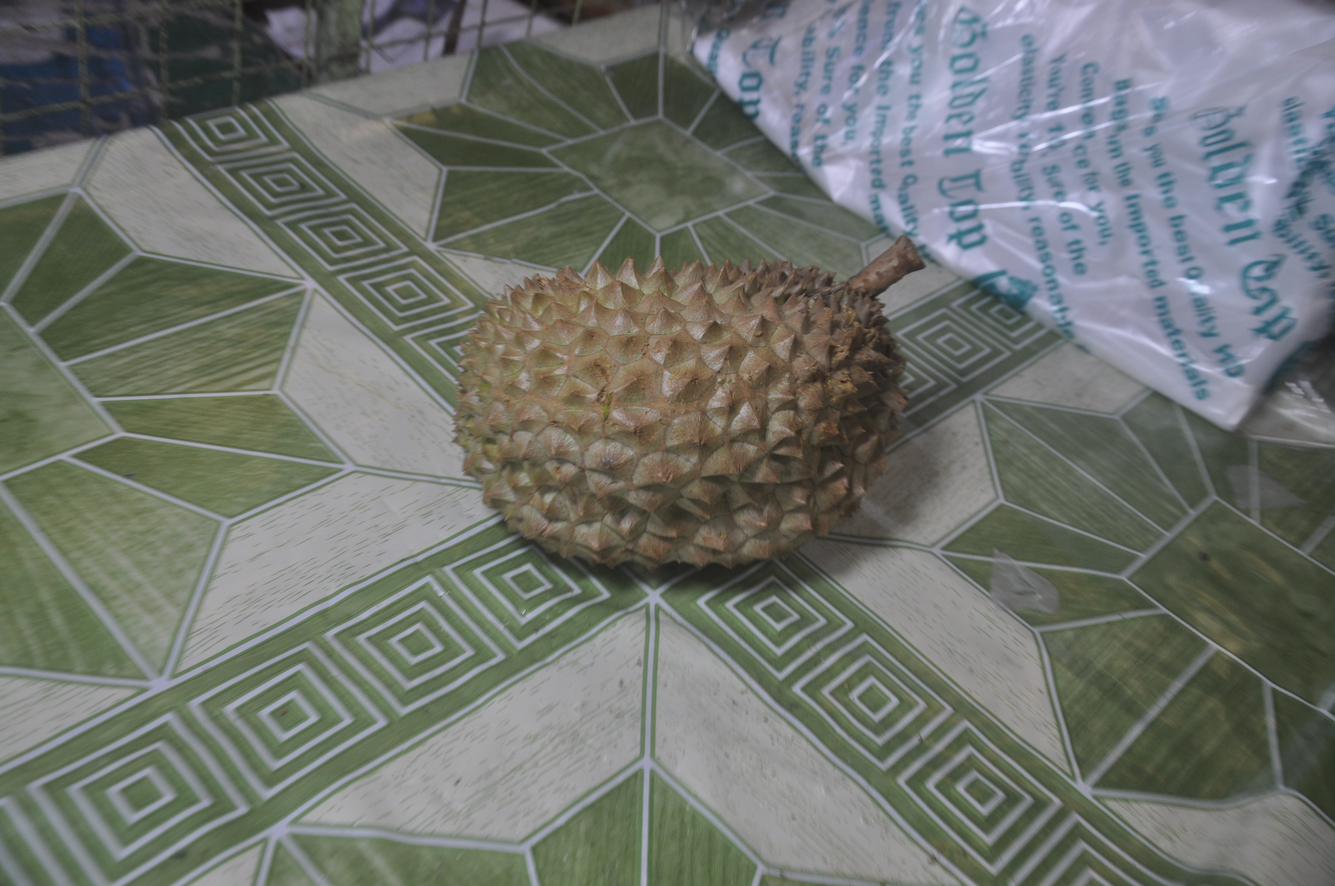mature: (455, 236, 924, 568)
